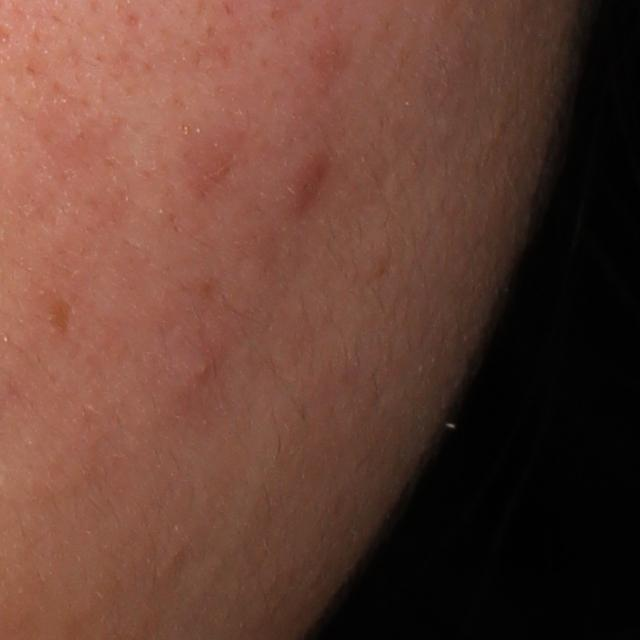papule: (289, 158, 328, 211)
